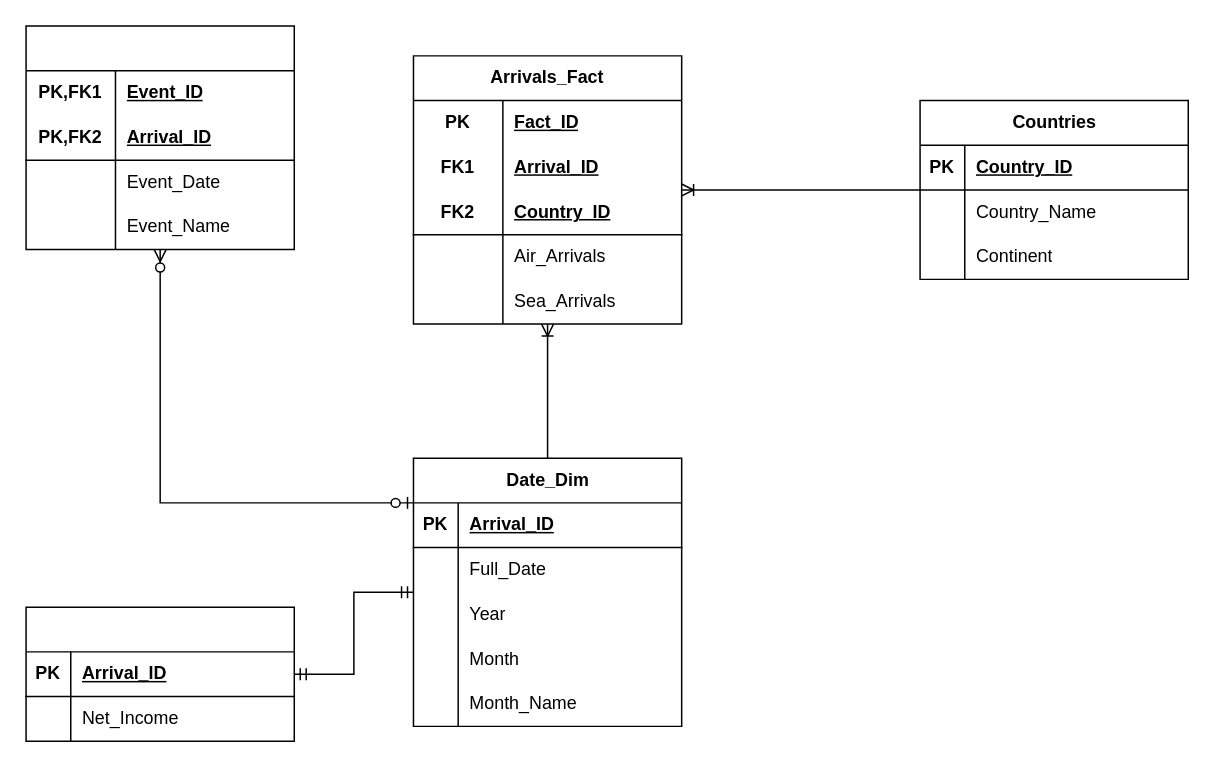
Some shapes in this 1214 by 767 pixel diagram are drawn without their labels. Here are the shapes that lost their labels. From the top down, the box of each, then its label:
(25, 25, 294, 250): Important_Events_Dim
(25, 606, 294, 741): Income_Dim
